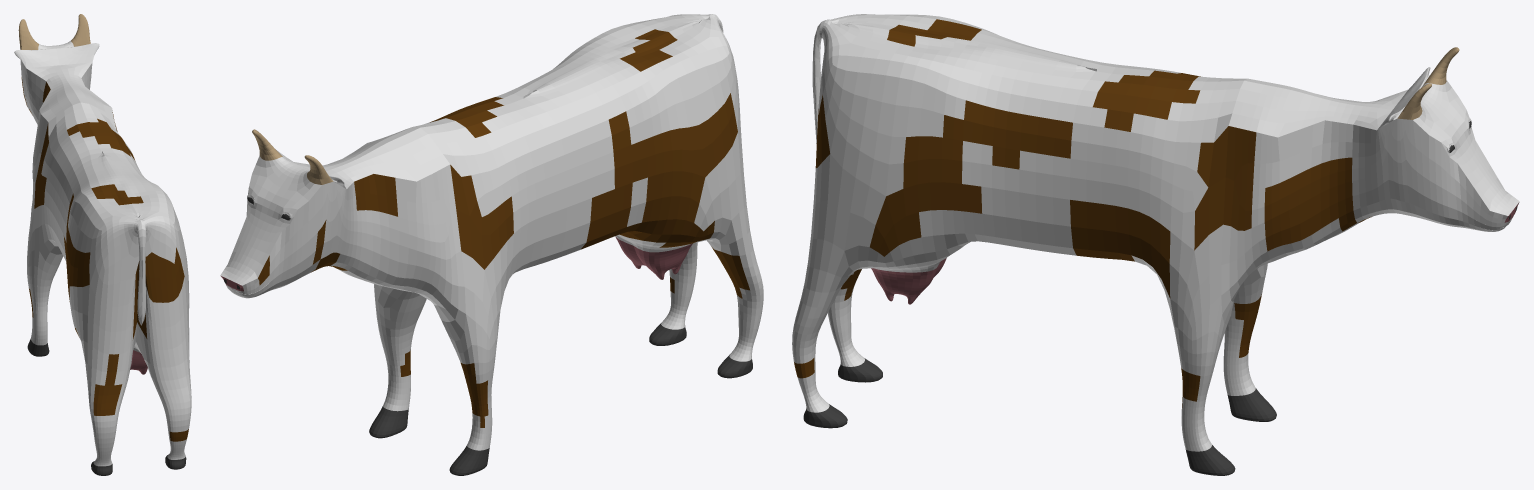
The model's file is cow (2).fbx.
The picture shows the model from 3 angles, left to right: view 1: azimuth 30°, elevation 25°; view 2: azimuth 150°, elevation 25°; view 3: azimuth 270°, elevation 25°; orthographic projection. The views are drawn at different scales.
Visible parts, largest first — view 1: Cube; view 2: Cube; view 3: Cube.
Part boxes in pixels (left/top/right/bottom): Cube: left=14, top=14, right=191, bottom=475; Cube: left=220, top=14, right=763, bottom=475; Cube: left=792, top=14, right=1519, bottom=475.
Bounding box in the file's own units: 149 × 210 × 332.
